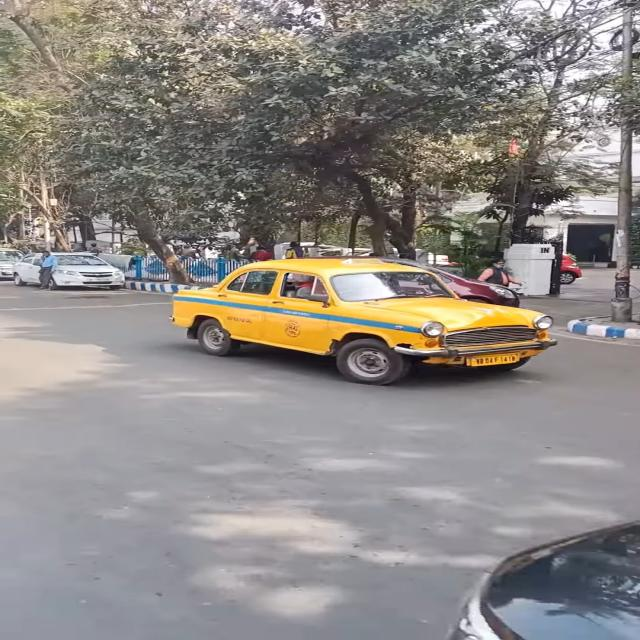Taxi: (160, 250, 572, 386)
